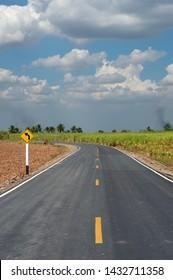Left hand curve: (21, 128, 37, 147)
